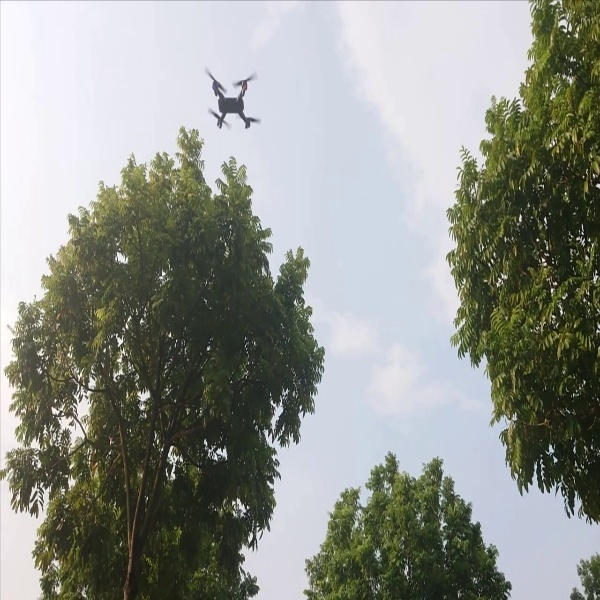drone: (193, 61, 266, 135)
